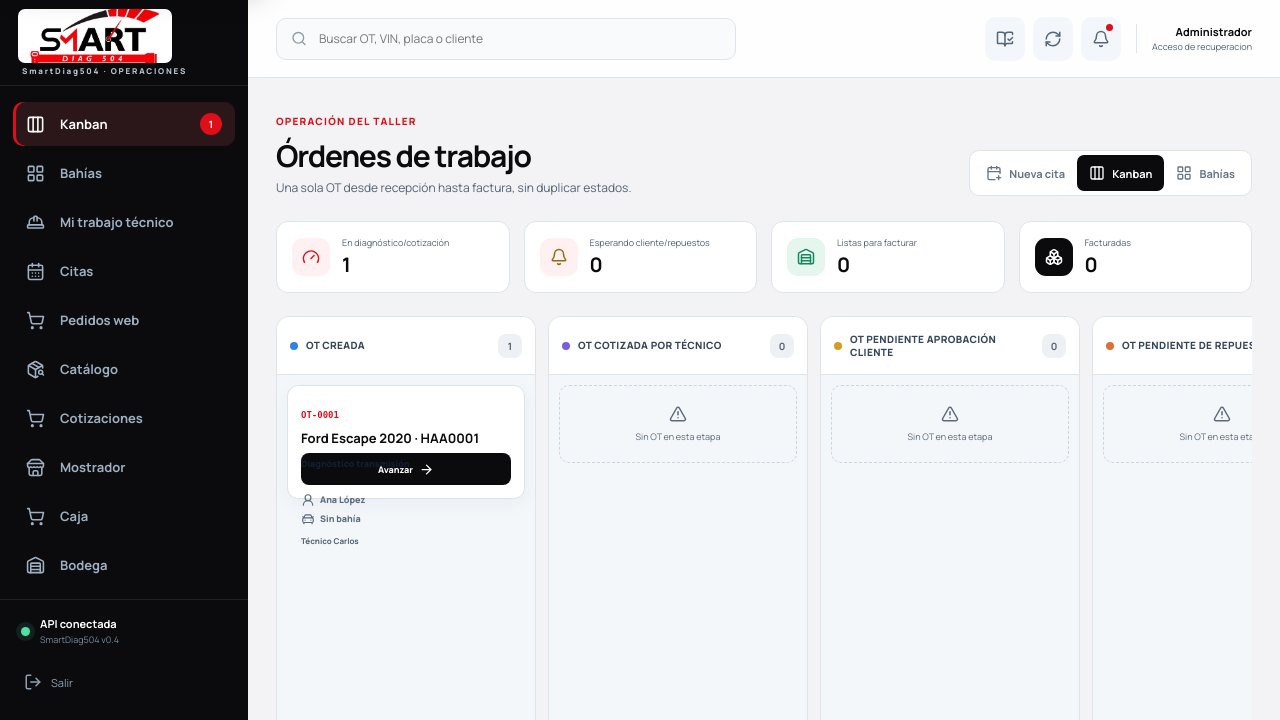
SmartDiag504 operations › shows persistent OT part requests in the warehouse picking queue
The width and height of the screenshot is (1280, 720).
Click the button "Bodega" at (124, 565), box x1=13 y1=543 x2=235 y2=587
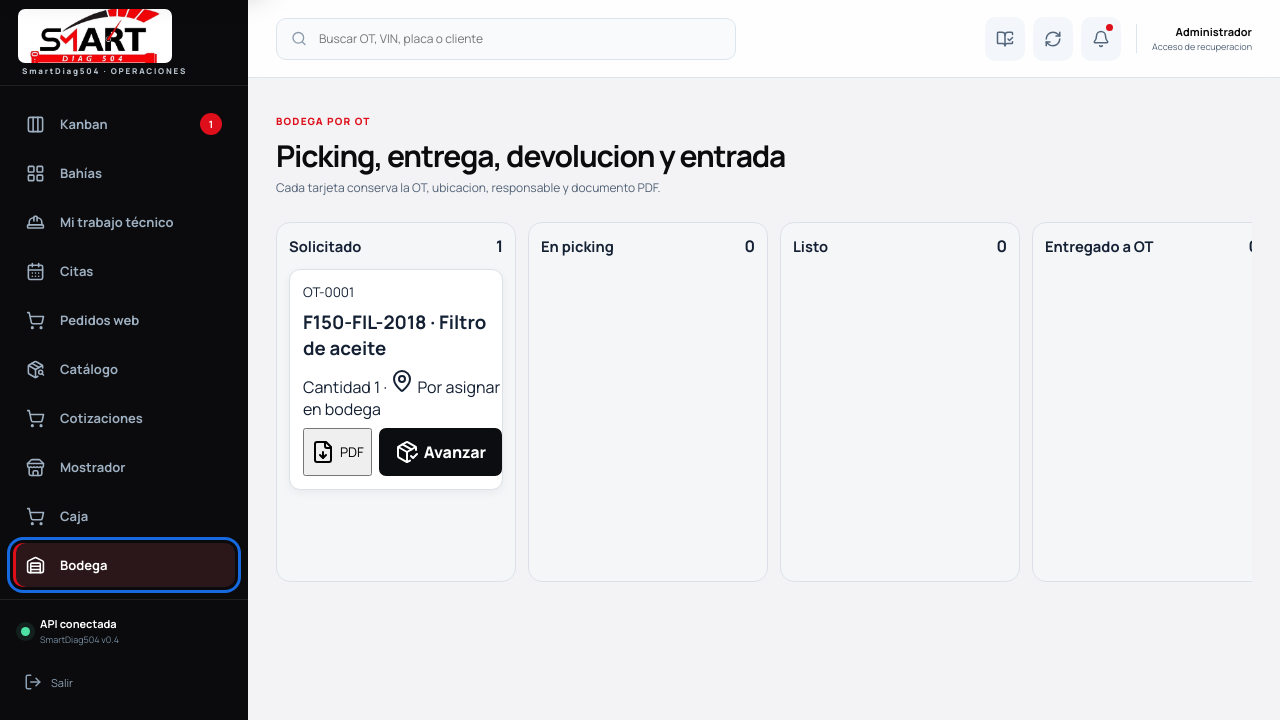
Expected: the text "OT-0001" is shown, x1=303 y1=283 x2=354 y2=301
Result: the heading "F150-FIL-2018 · Filtro de aceite" is shown at x1=303 y1=309 x2=502 y2=361
Result: the button "Avanzar" is shown at x1=379 y1=428 x2=502 y2=476
